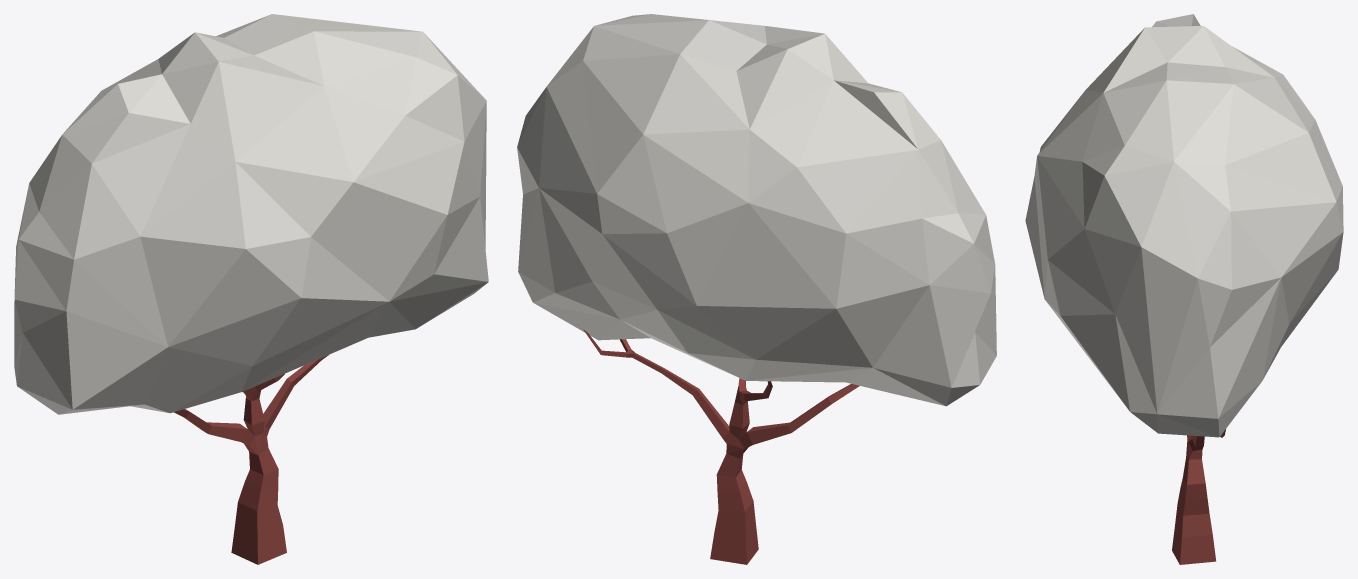
Rendered from Elm_flat.glb.
3 renders of one model, left to right at view 1: azimuth 30°, elevation 25°; view 2: azimuth 150°, elevation 25°; view 3: azimuth 270°, elevation 25°, orthographic. The views are drawn at different scales.
Parts seen in each view (by area): view 1: Elm green f; view 2: Elm green f; view 3: Elm green f.
Part boxes in pixels (x1,y1,x2,y2): Elm green f: (14,14,488,564); Elm green f: (517,14,996,564); Elm green f: (1025,14,1343,564).
Bounding box in the file's own units: 13.09 × 14.38 × 8.24.
